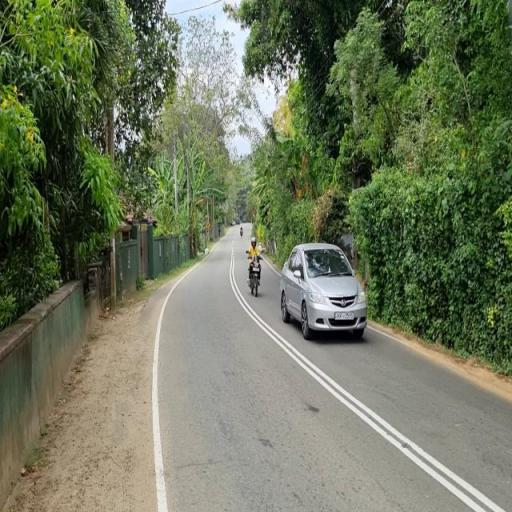double_white_line: (231, 243, 506, 512)
